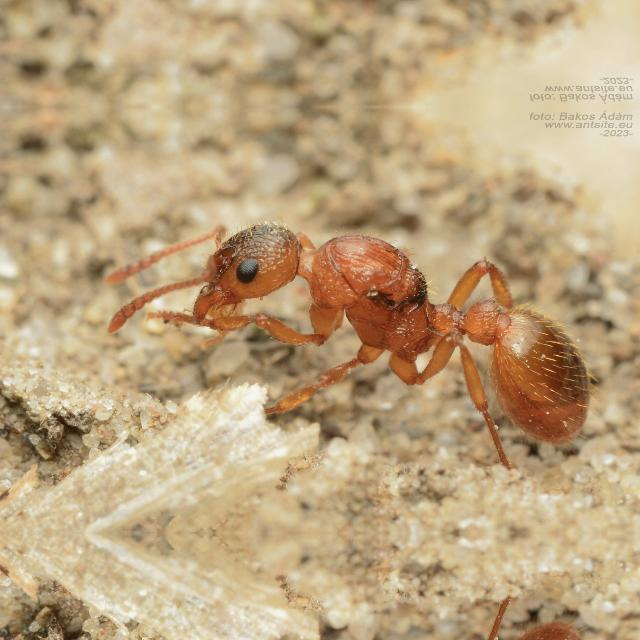Myrmica: (112, 194, 630, 468)
